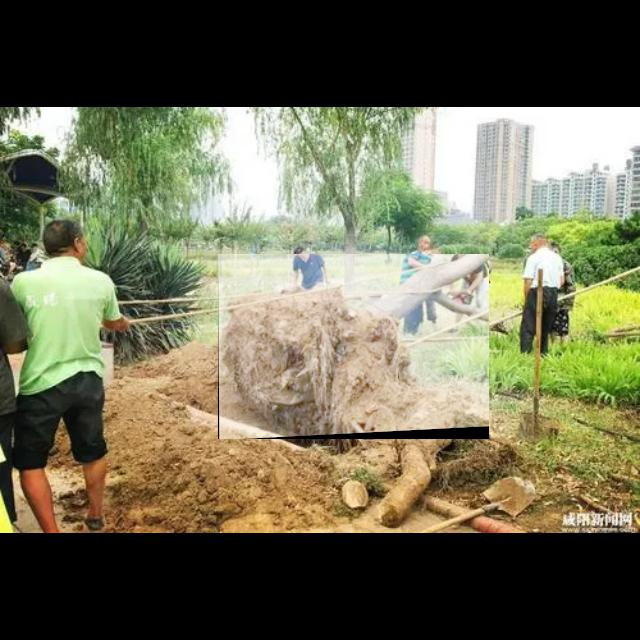Fallen Tree: (218, 254, 490, 440)
